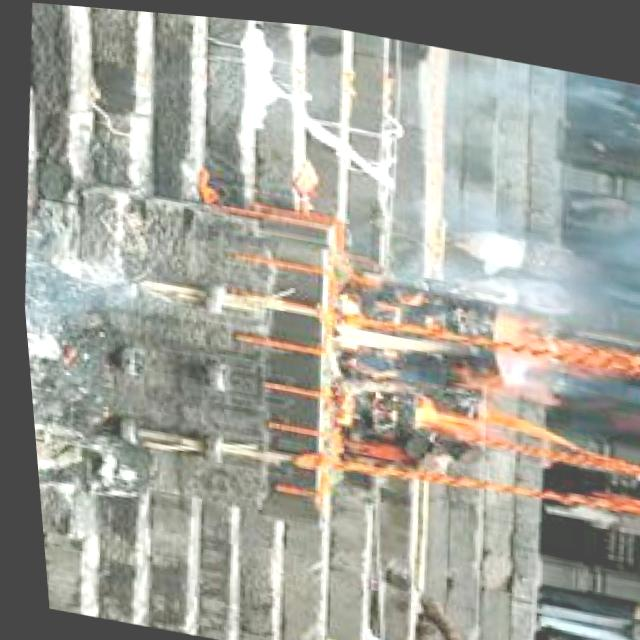helmet: (311, 288, 581, 461)
